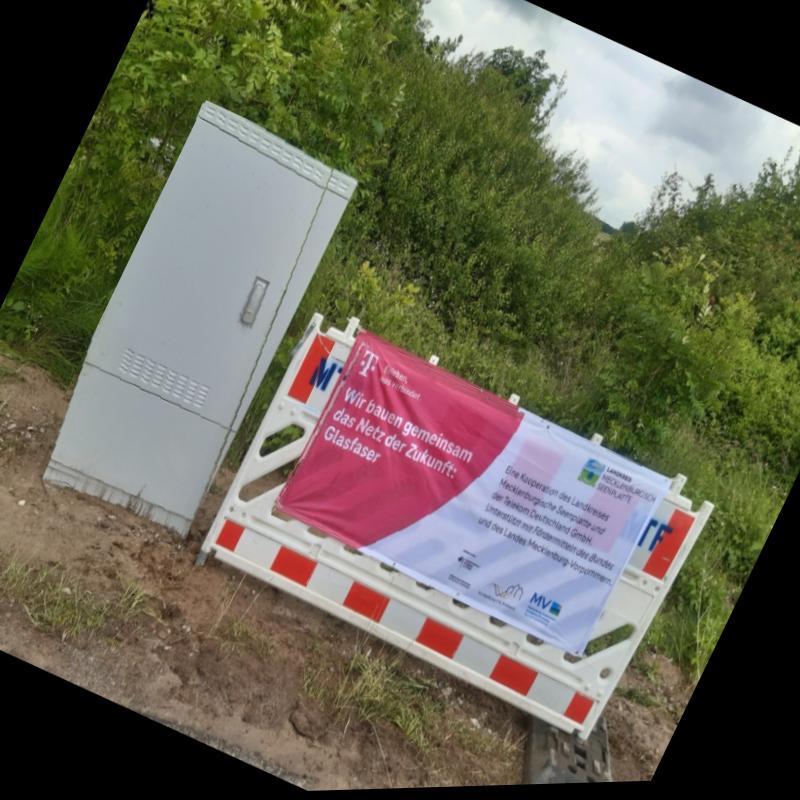Banner: (270, 329, 665, 667)
NT-Gehause: (30, 97, 363, 541)
